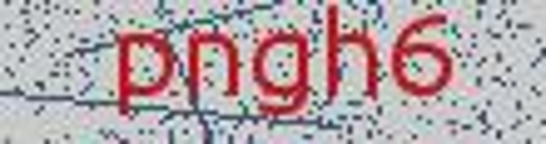6: (385, 5, 462, 102)
g: (246, 22, 316, 126)
h: (319, 1, 383, 111)
n: (181, 18, 244, 106)
p: (106, 19, 179, 122)
